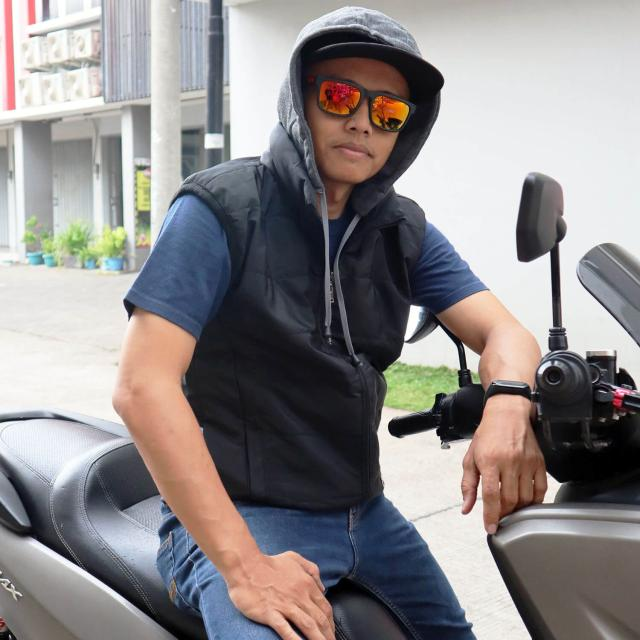illegal_helmet: (269, 2, 450, 221)
